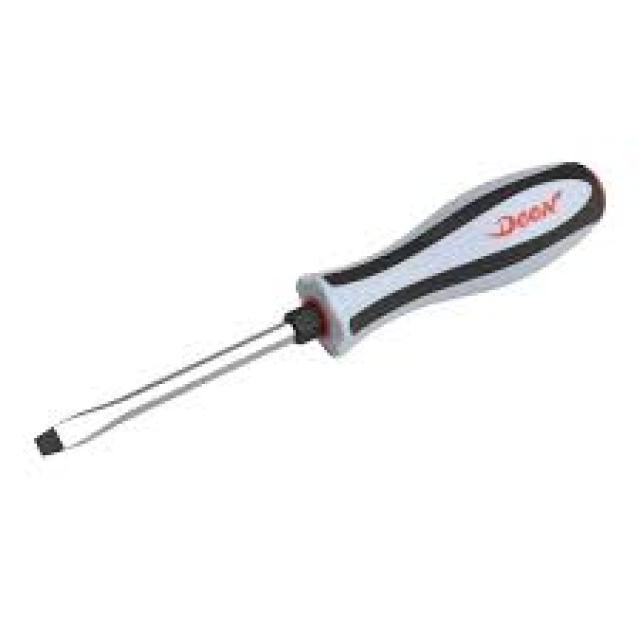Screwdriver: (35, 162, 602, 454)
